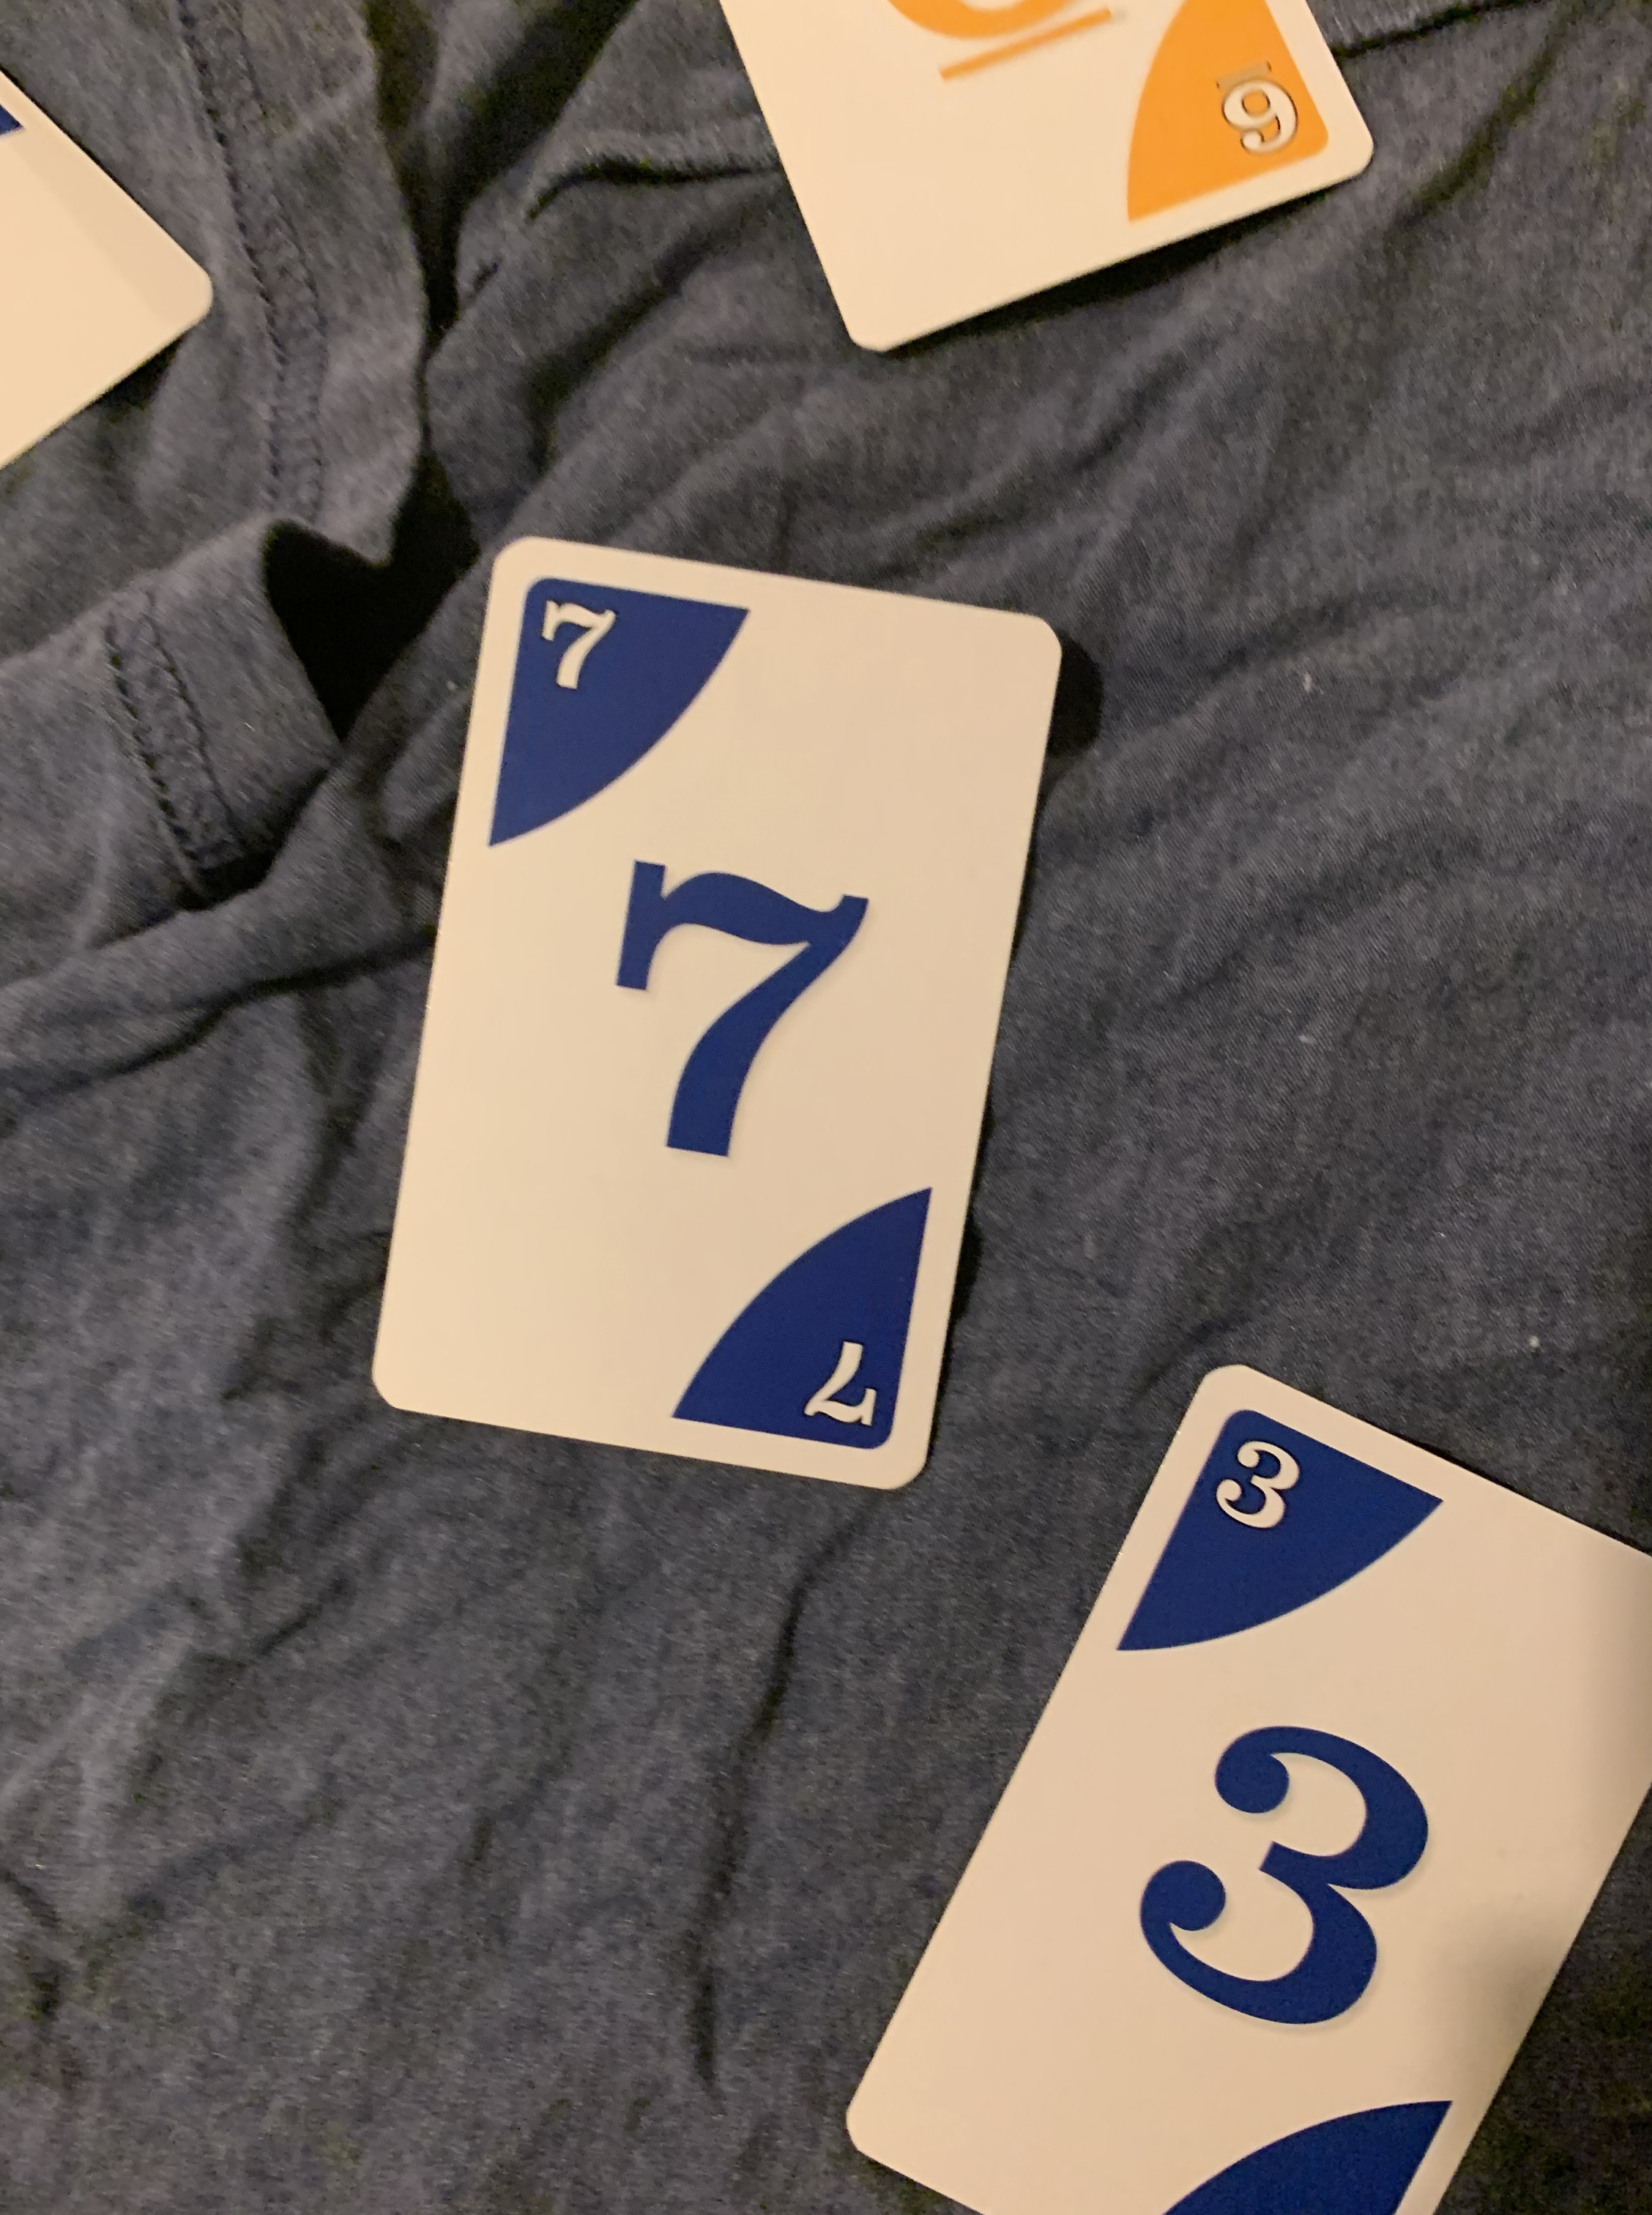seven: (352, 521, 1062, 1502)
three: (835, 1352, 1652, 2203)
